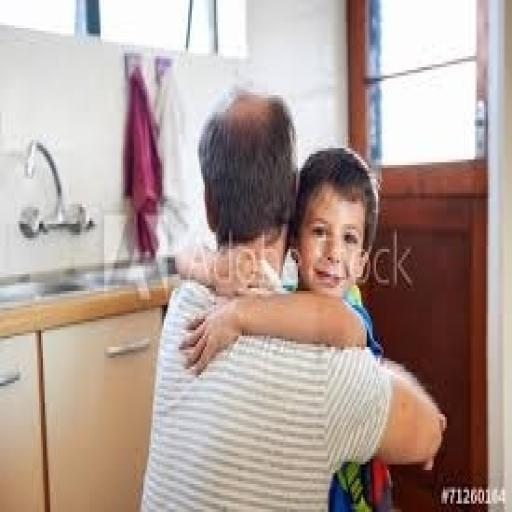hugging: (136, 87, 447, 509)
